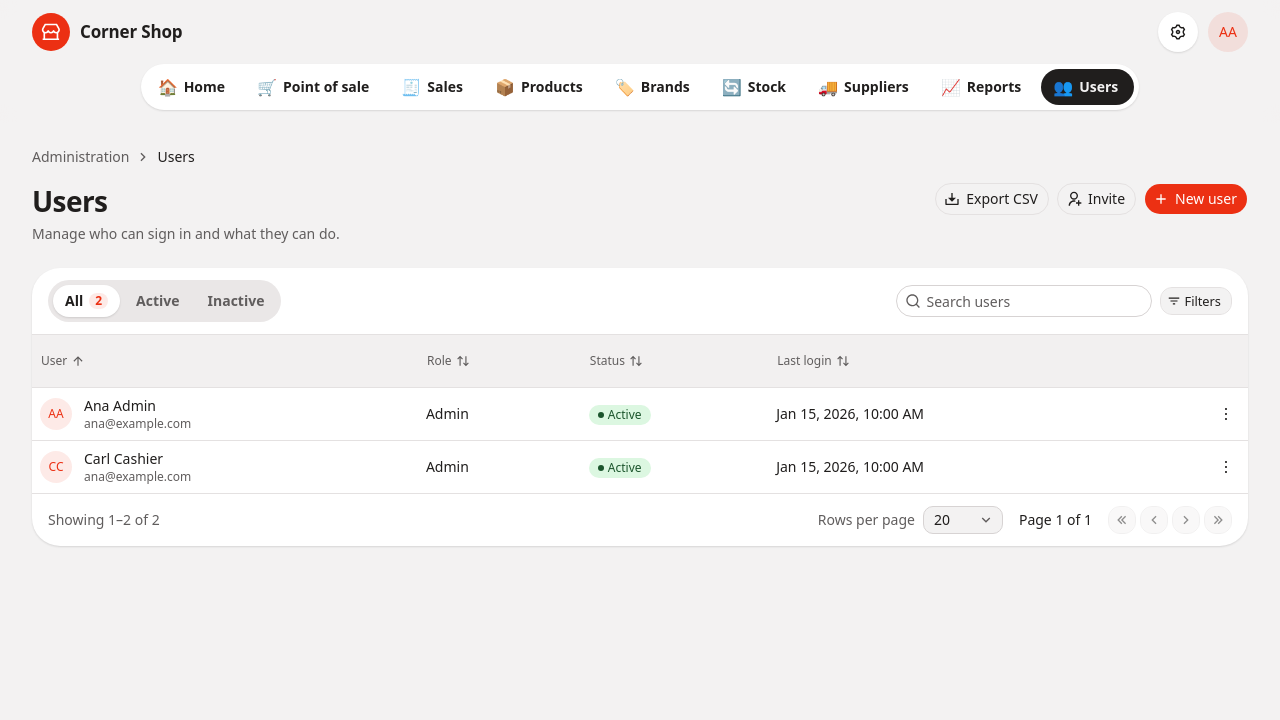
Test: UserListPage › does not offer deactivate on the signed-in user row
Click the button named "Actions" in the row of "Ana Admin".
click(1226, 414)  # box [1212, 400, 1240, 428]
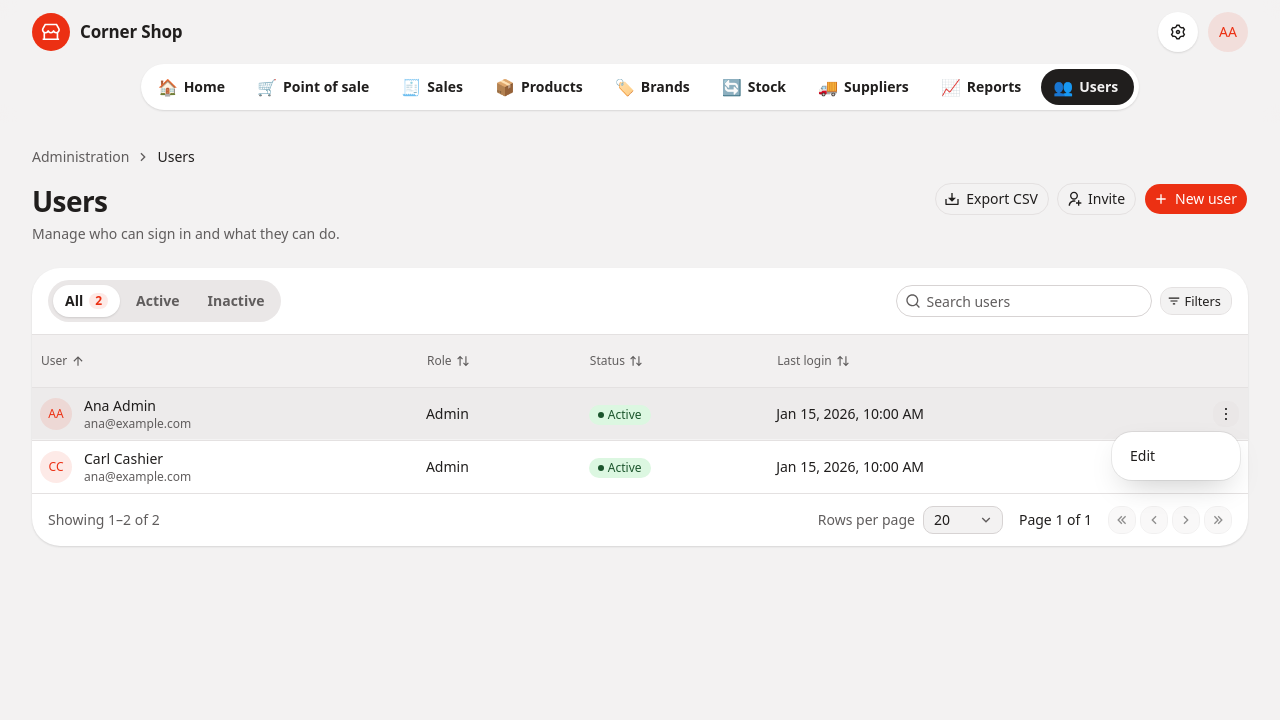
expect the menu item "Edit" is shown: met, box [1130, 446, 1155, 465]
